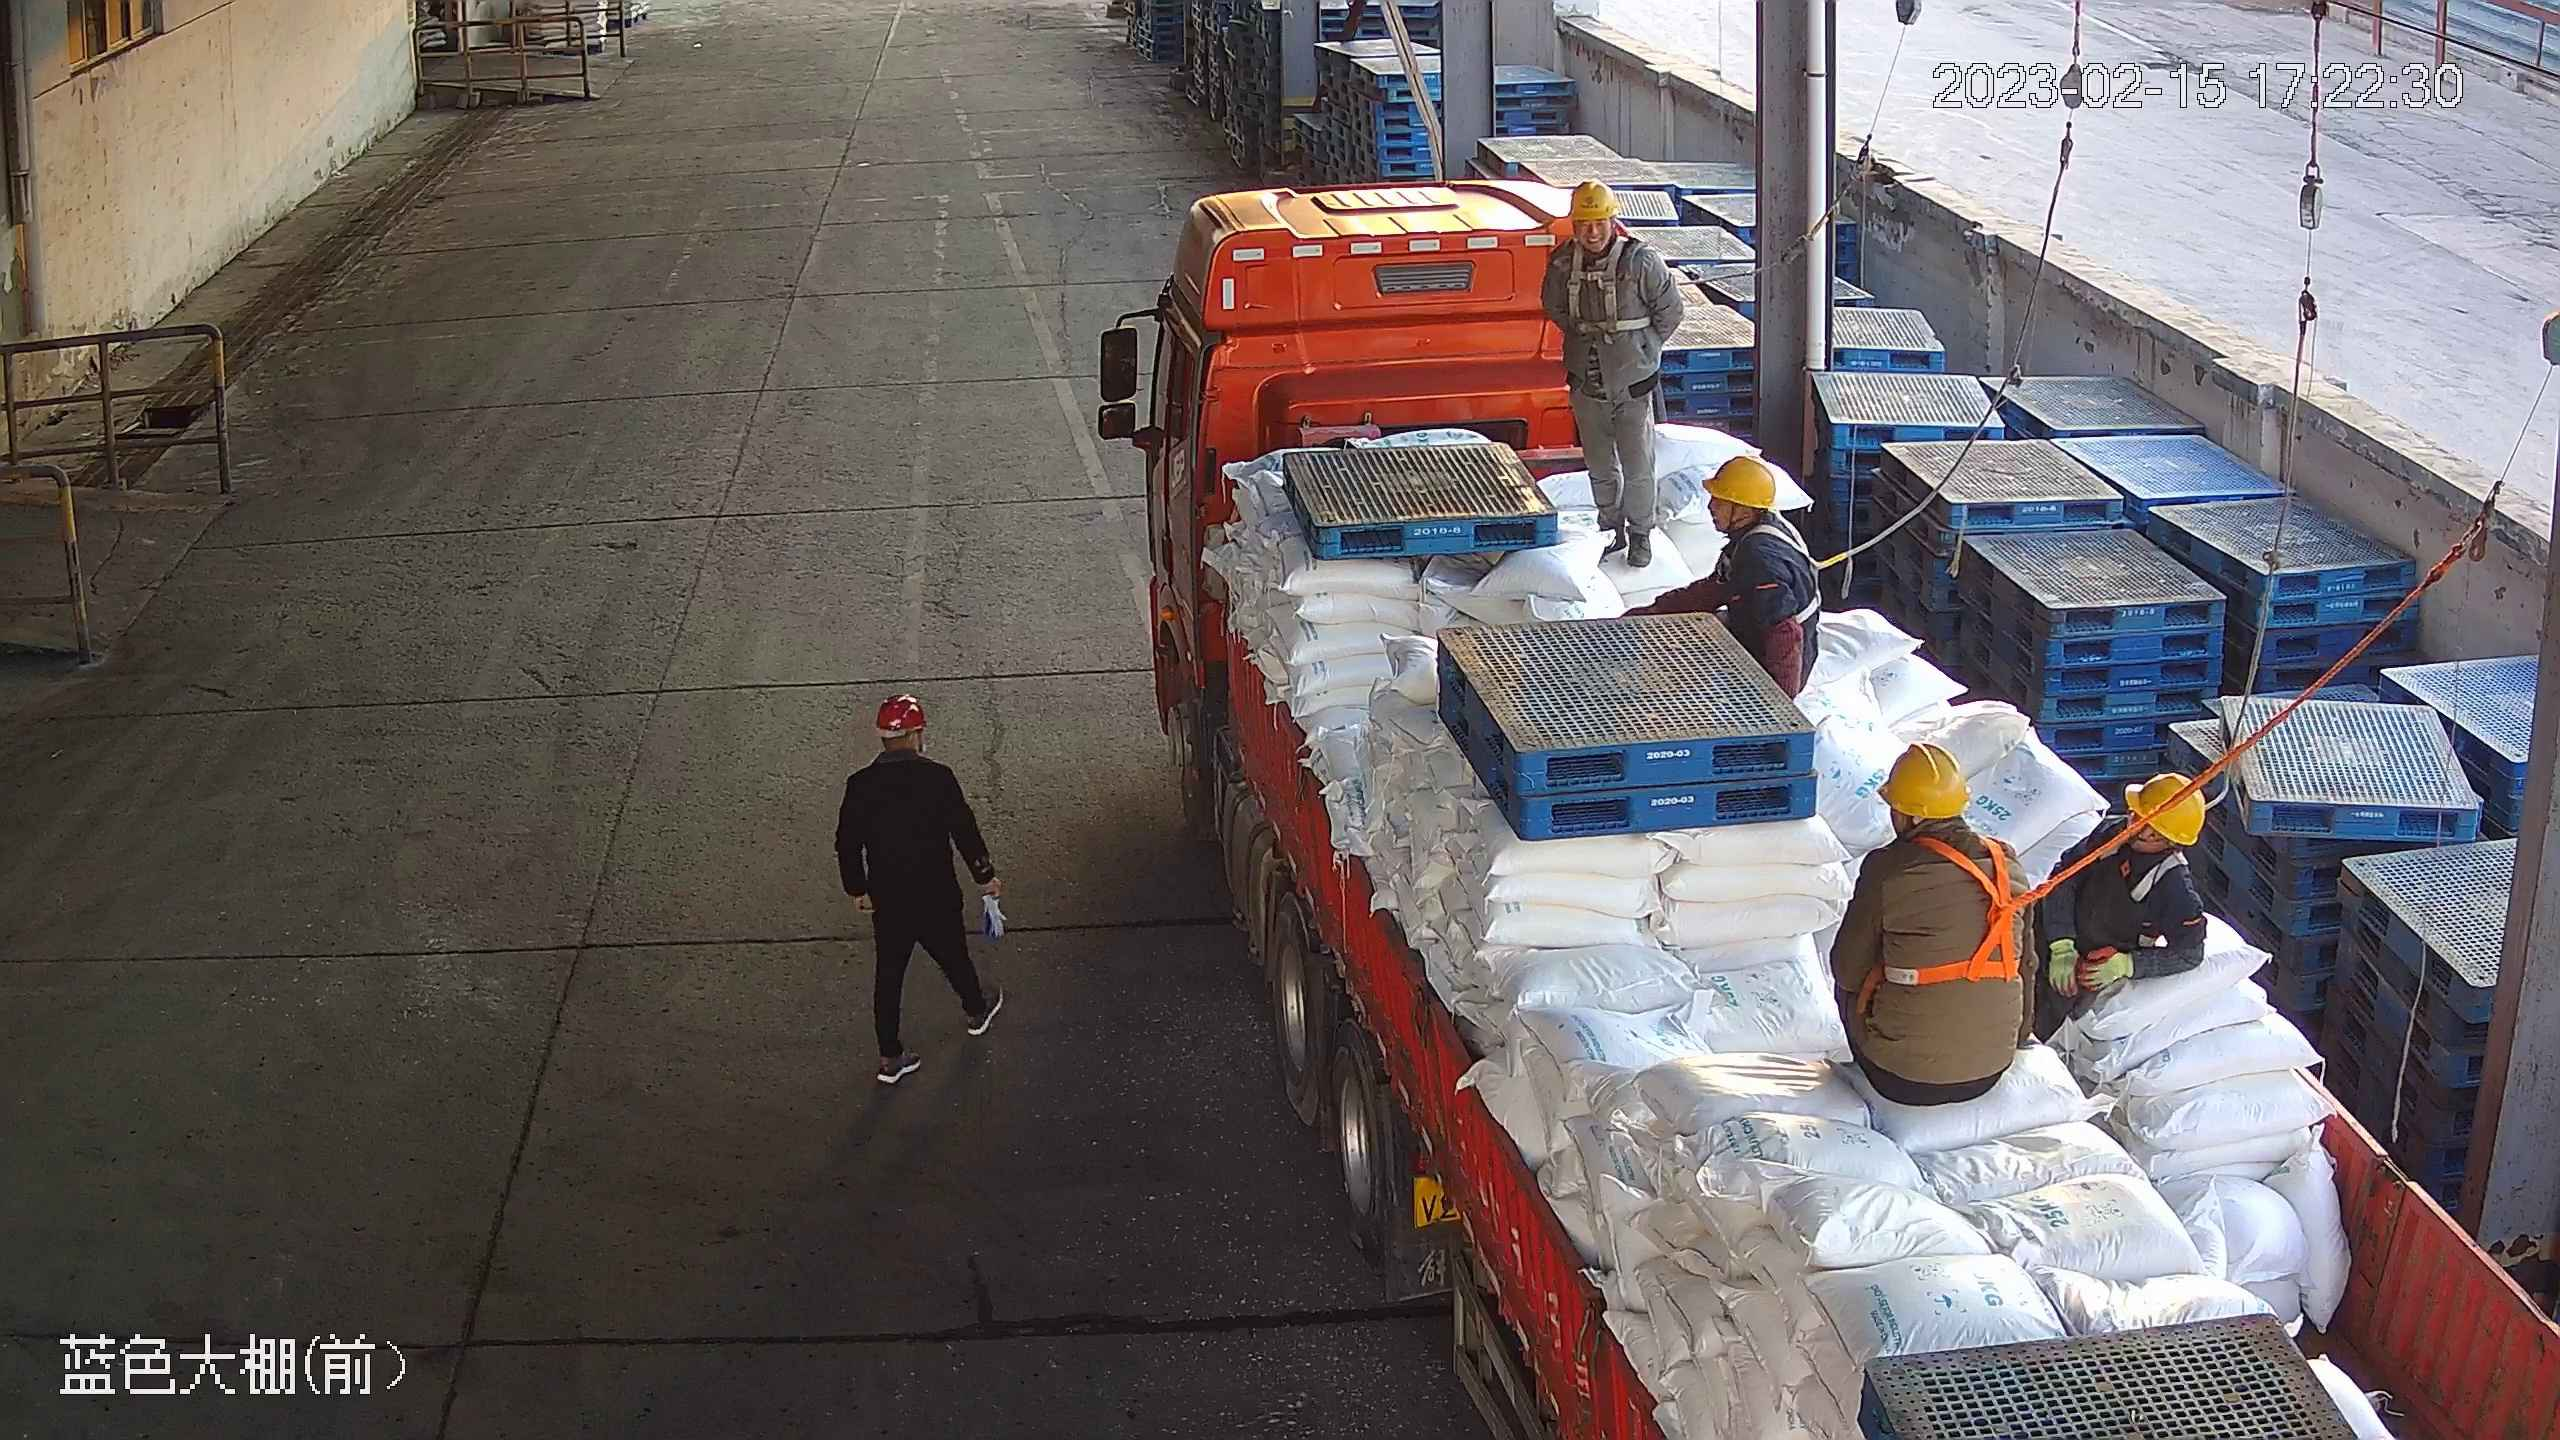belt: (1886, 843, 2035, 983), (1740, 527, 1851, 641), (2079, 844, 2183, 937), (1560, 250, 1651, 329)
head: (1877, 755, 2009, 893), (2083, 779, 2211, 897), (1700, 458, 1809, 592), (1553, 179, 1662, 279), (854, 694, 960, 794)
helmet: (1874, 746, 1974, 816), (2125, 764, 2211, 843), (1704, 457, 1779, 506), (870, 690, 930, 737), (1565, 179, 1621, 218)
people: (1832, 753, 2044, 1106), (834, 693, 1006, 1092), (1541, 179, 1688, 571), (2016, 771, 2211, 1034)
truck: (1099, 169, 2560, 1440)
